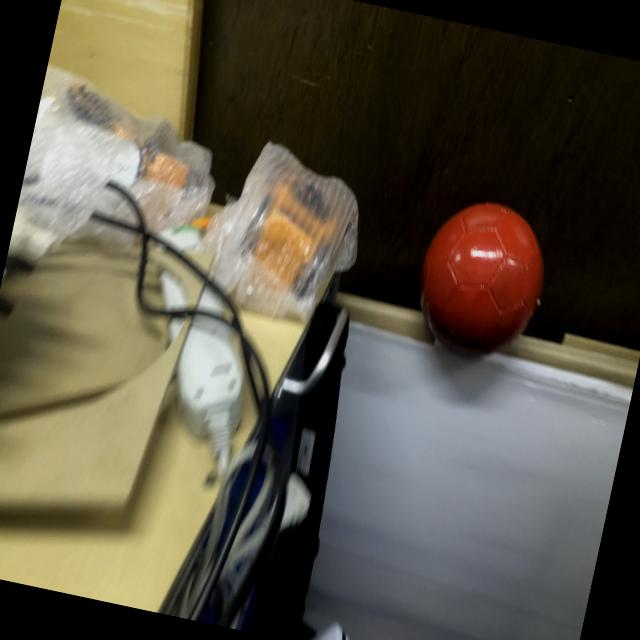red_ball: (406, 190, 557, 372)
